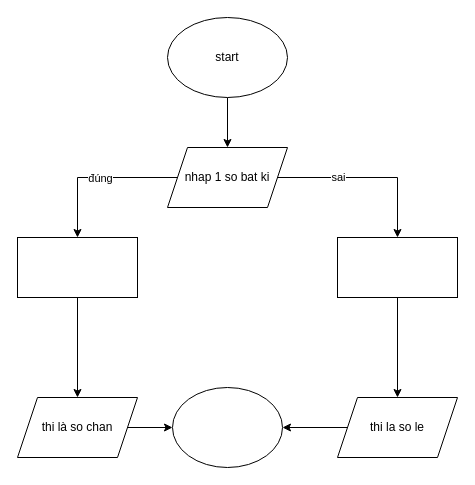
The diagram is 475 pixels wide and 485 high, and some of its shapes have lost their labels. Here are the shapes that lost their labels. From the top down, the centre of each, then its label:
At (x=77, y=267): "kt duoi so la 0,2,4,6,8".
At (x=397, y=267): "kt khac duoi 0,2,4,6,8".
